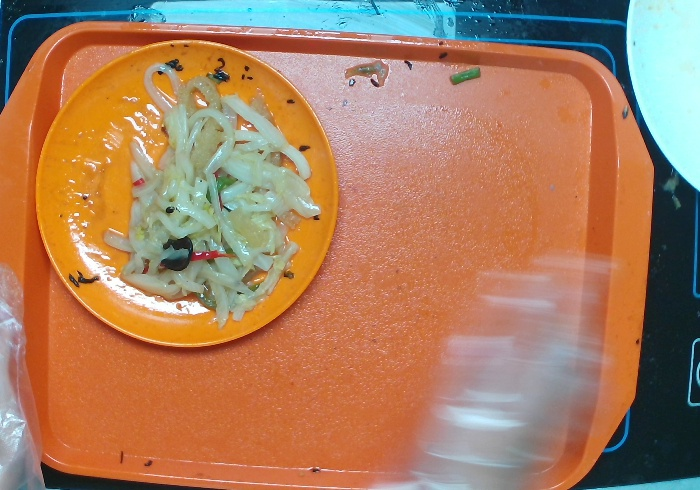HZYJPL-Ju_Huang_Yuan_Pan: (33, 38, 341, 350)
